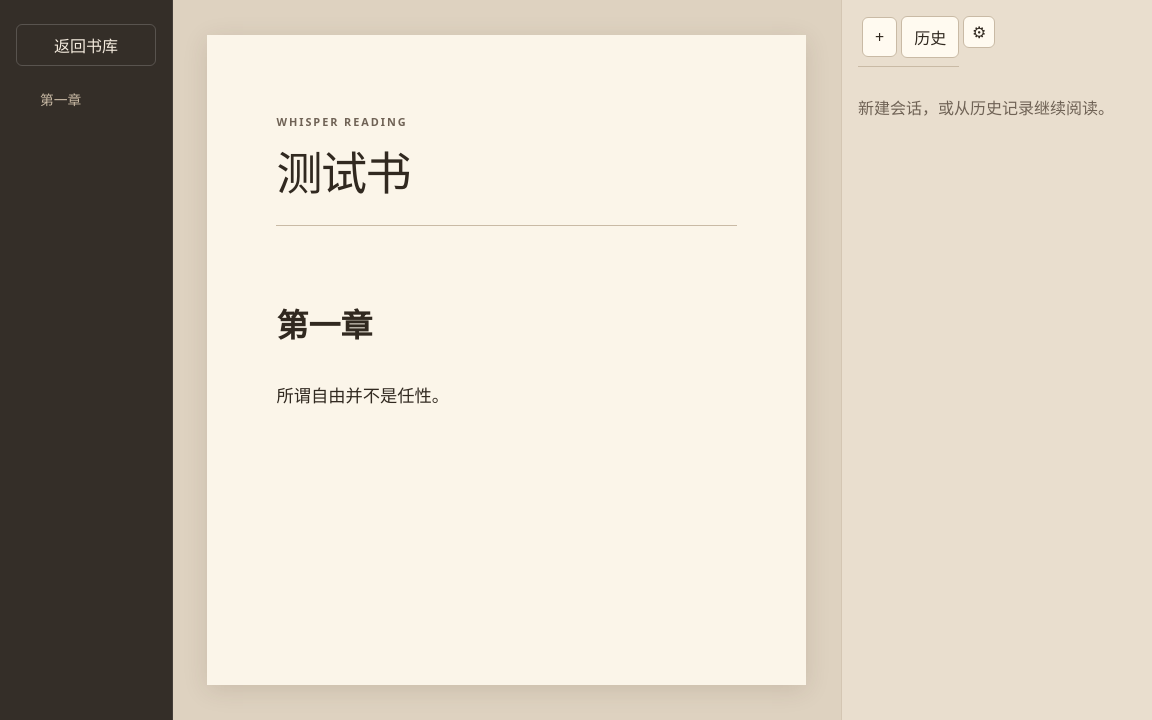
ReaderPage 会话编排 › 阅读正文外的选区变化不影响临时正文选区或当前草稿
Expected: the text "所谓自由并不是任性。" is shown, top-left (276, 386), bottom-right (449, 406)
Click the button named "新建会话".
click(880, 37)  # box top-left (862, 17), bottom-right (897, 57)
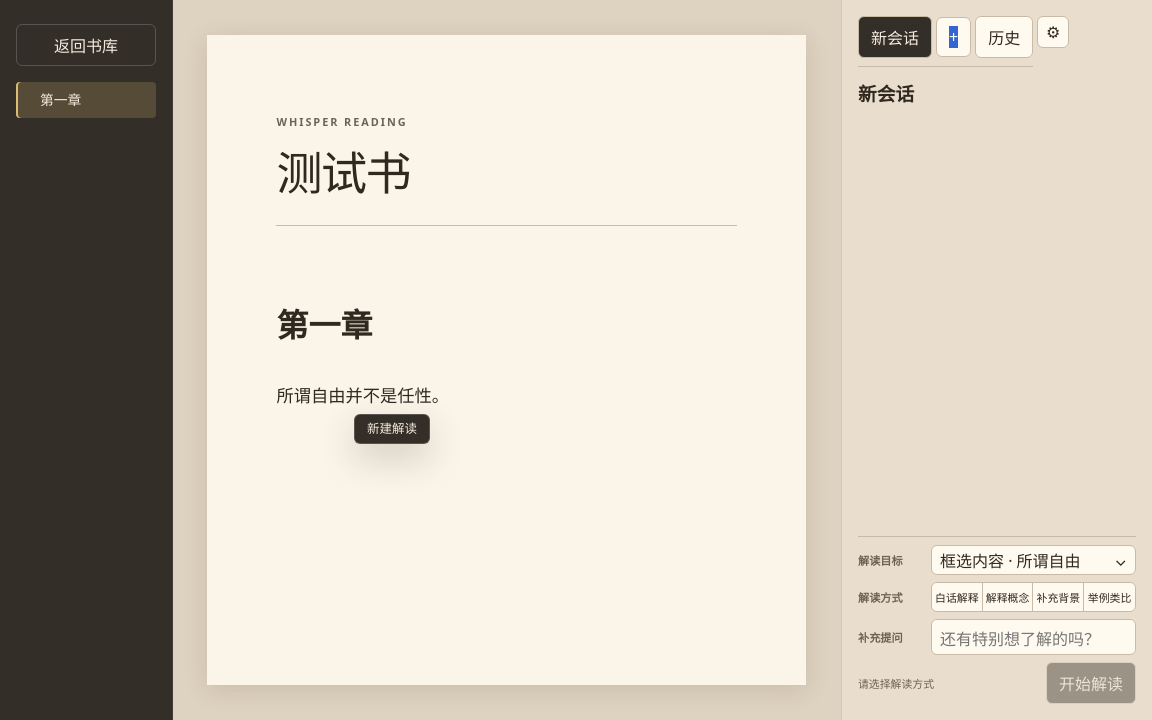
Expected: the button "新建解读" is shown, top-left (354, 414), bottom-right (430, 444)
Expected: the button "框选内容 · 所谓自由 ⌄" is shown, top-left (931, 545), bottom-right (1136, 575)
